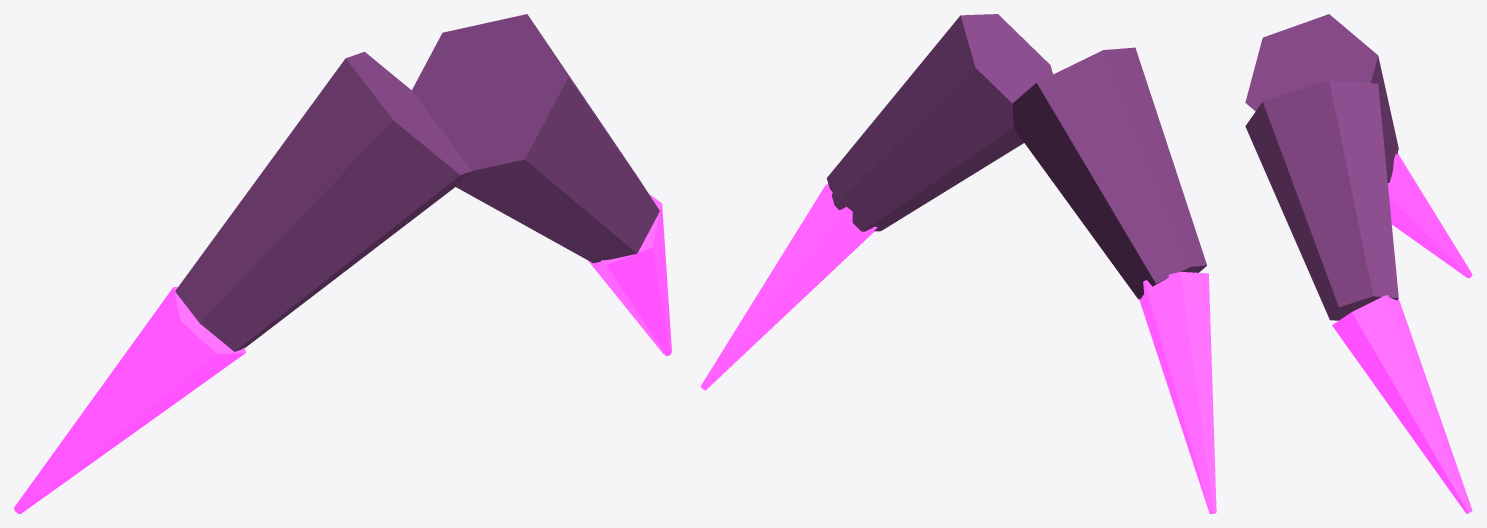
File: SM_Briar_Claws.fbx
3 views of the same model, side by side, from view 1: azimuth 30°, elevation 25°; view 2: azimuth 150°, elevation 25°; view 3: azimuth 270°, elevation 25° (orthographic). The views are drawn at different scales.
Visible parts, largest first — view 1: SM_Briar_Claws; view 2: SM_Briar_Claws; view 3: SM_Briar_Claws.
Part boxes in pixels (bbox=[...]): SM_Briar_Claws: bbox=[14, 14, 671, 513]; SM_Briar_Claws: bbox=[700, 14, 1216, 513]; SM_Briar_Claws: bbox=[1245, 14, 1472, 513].
Size of the model in its own units: 64.71 by 25.94 by 43.91.
